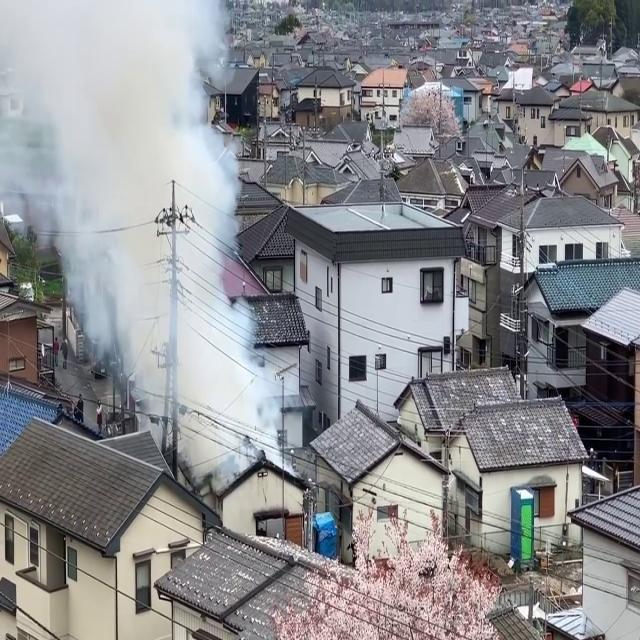Smoke: (1, 0, 283, 486)
